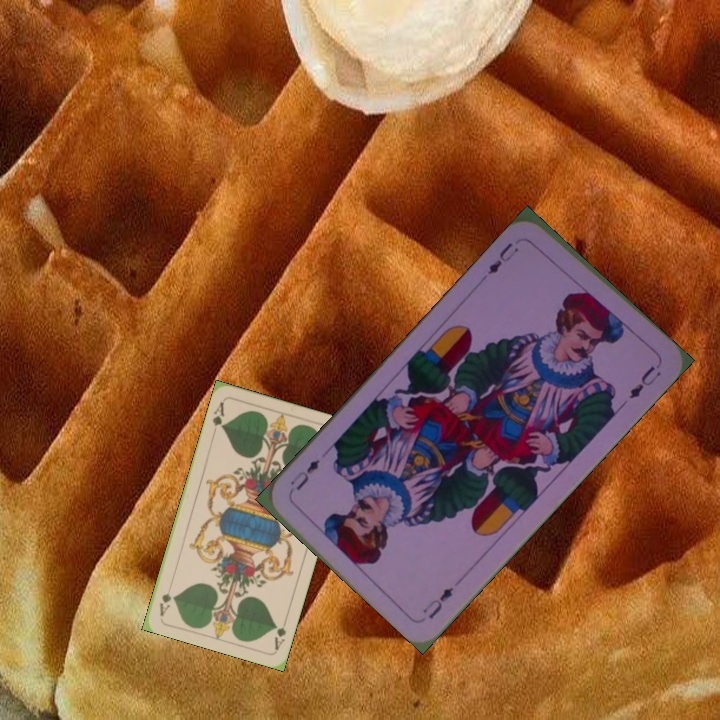EU: (483, 238, 522, 278), (419, 583, 456, 622)
GA: (270, 613, 290, 653), (208, 398, 227, 437)
